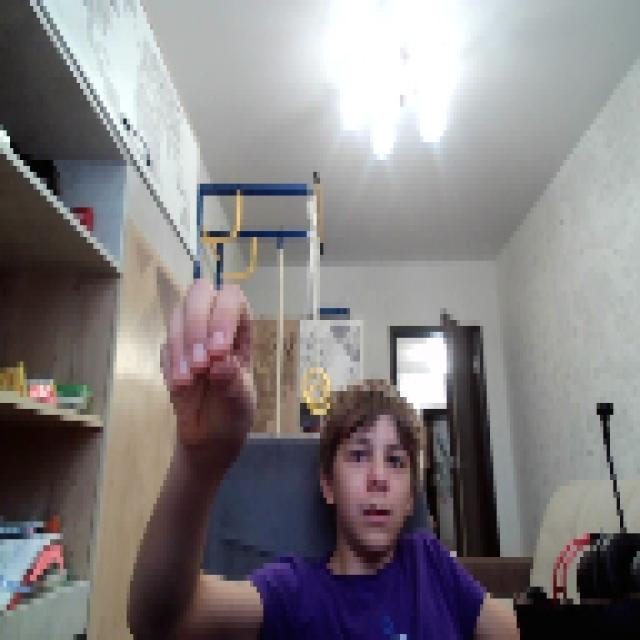left_click: (156, 273, 256, 456)
